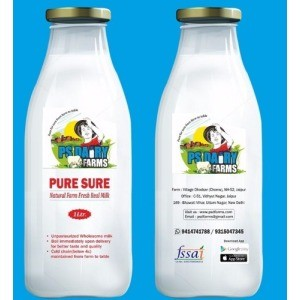milk_brain food: (20, 56, 133, 293), (152, 57, 260, 287)
